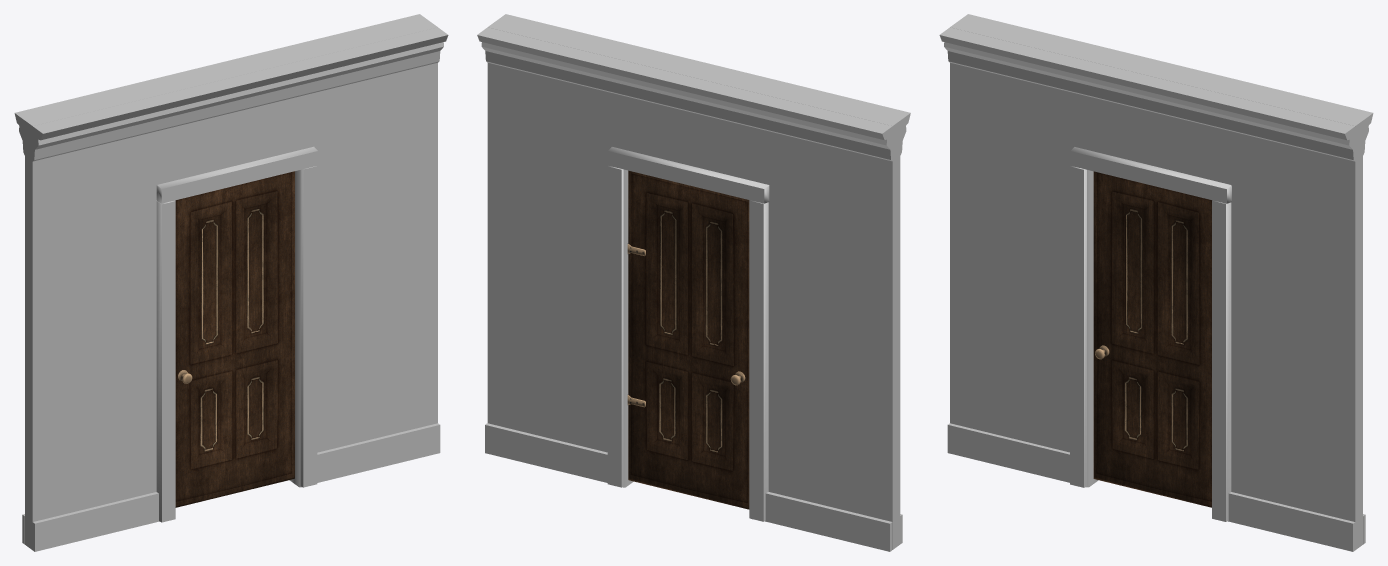
The model's file is Puerta variante.fbx.
The picture shows the model from 3 angles, left to right: view 1: azimuth 30°, elevation 25°; view 2: azimuth 150°, elevation 25°; view 3: azimuth 330°, elevation 25°; orthographic projection.
Parts seen in each view (by area): view 1: Pared puerta, Door, Wall_Doorway_Door; view 2: Pared puerta, Door, Wall_Doorway_Door; view 3: Pared puerta, Door, Wall_Doorway_Door.
Part boxes in pixels (x1=…): Pared puerta: x1=14, y1=14, x2=448, y2=551; Door: x1=175, y1=171, x2=294, y2=507; Wall_Doorway_Door: x1=156, y1=146, x2=317, y2=522; Pared puerta: x1=477, y1=14, x2=910, y2=551; Door: x1=627, y1=170, x2=749, y2=509; Wall_Doorway_Door: x1=607, y1=146, x2=769, y2=521; Pared puerta: x1=939, y1=14, x2=1373, y2=551; Door: x1=1093, y1=171, x2=1211, y2=507; Wall_Doorway_Door: x1=1070, y1=146, x2=1231, y2=521.
Bounding box in the file's own units: 3 × 3 × 0.3673.
